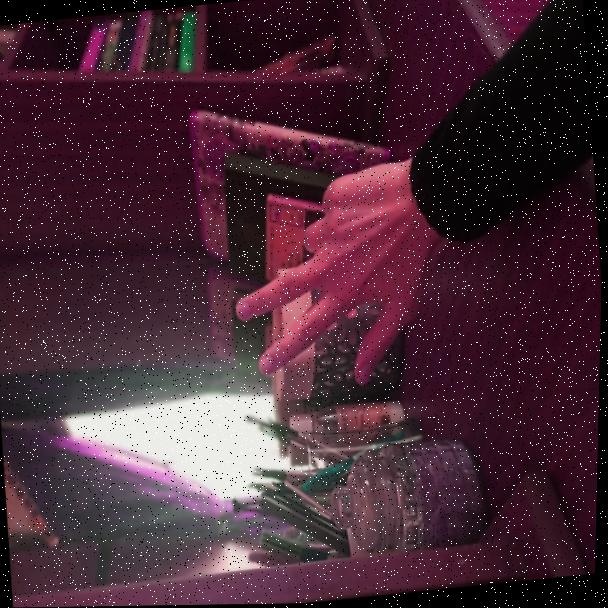three: (201, 115, 460, 435)
